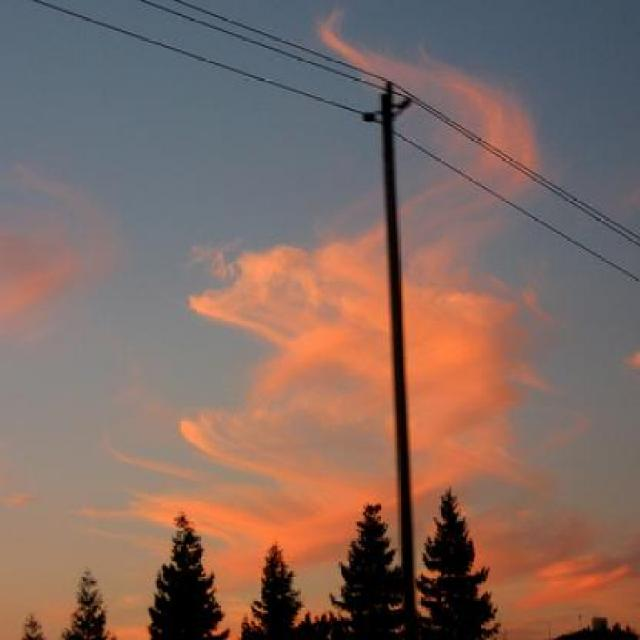pole: (370, 64, 428, 627)
